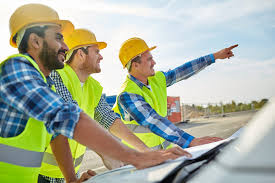hard hat: (8, 2, 75, 44), (118, 37, 156, 67), (64, 28, 107, 51)
high-vis: (39, 64, 104, 177), (1, 55, 57, 183), (119, 71, 168, 154)
